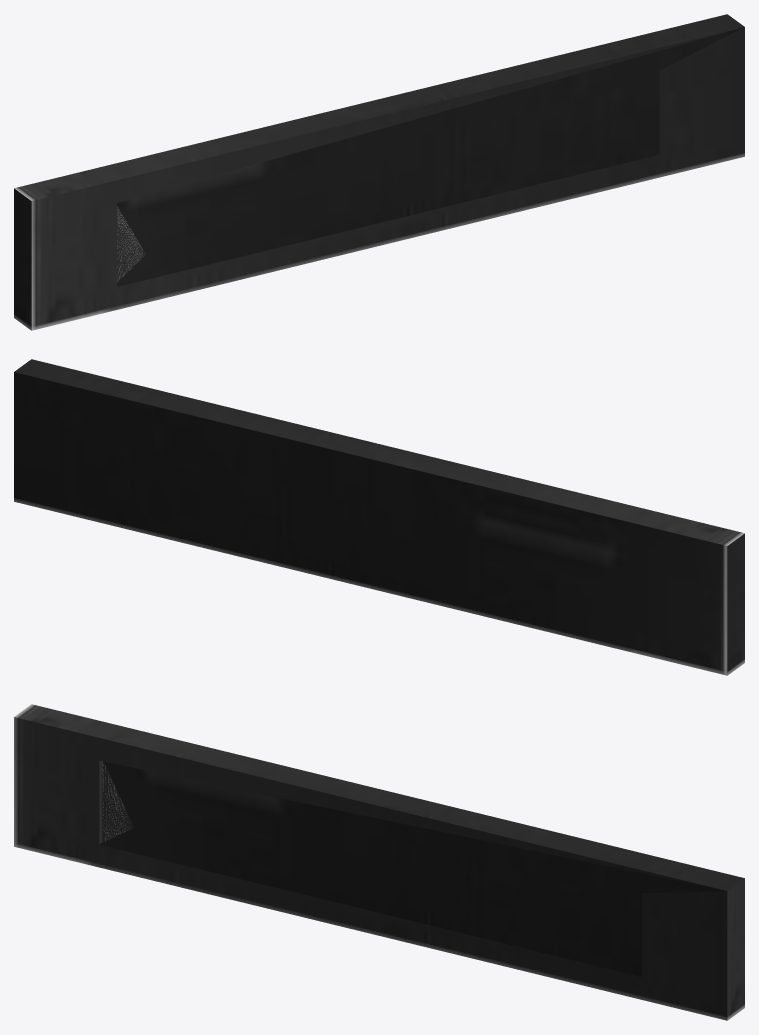
3 renders of one model, top to bottom at view 1: azimuth 30°, elevation 25°; view 2: azimuth 150°, elevation 25°; view 3: azimuth 330°, elevation 25°, orthographic.
Bounding box in the file's own units: 1.14 × 0.1987 × 0.0487.
